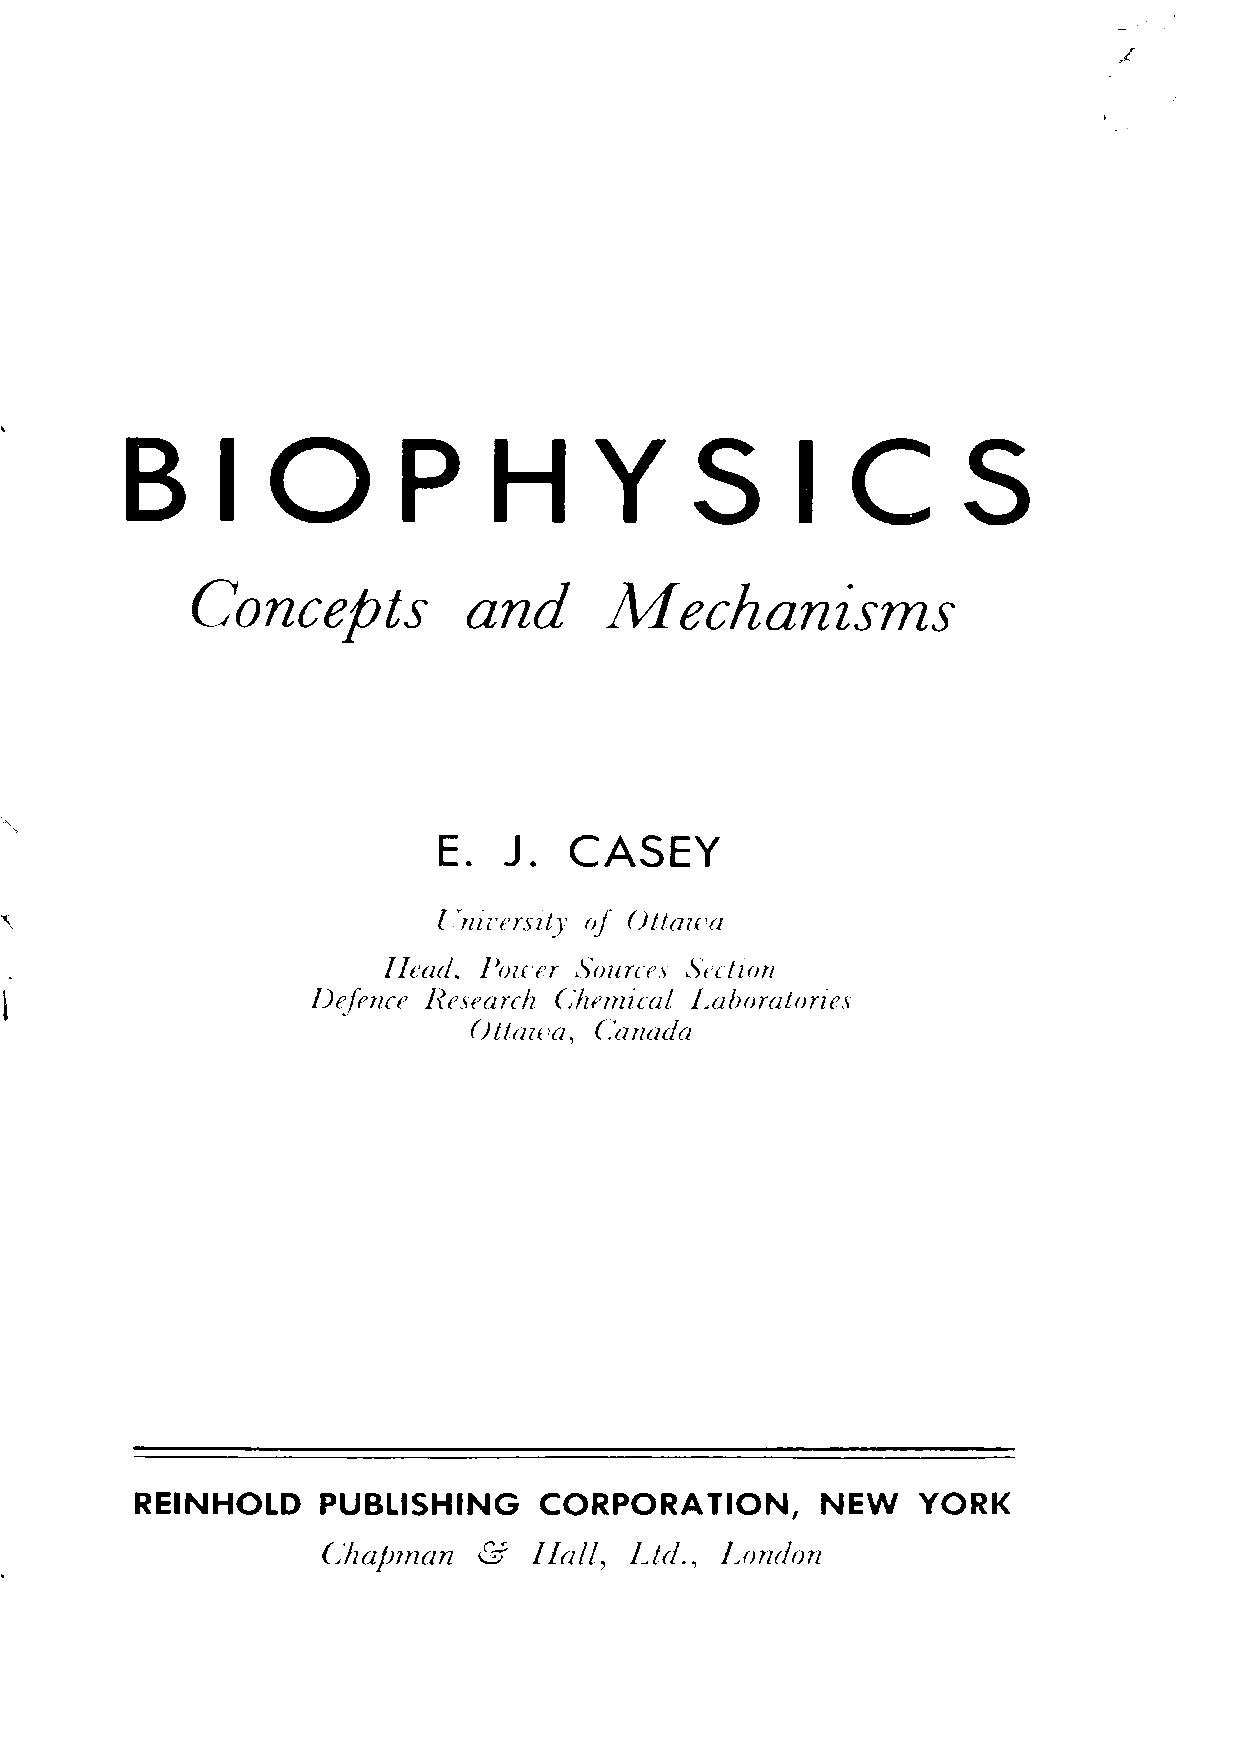author: (433, 831, 721, 870)
title: (121, 433, 1033, 646)
